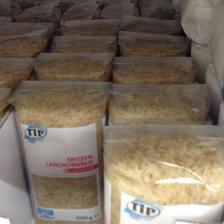Reis: (9, 79, 111, 223), (102, 119, 222, 220)
